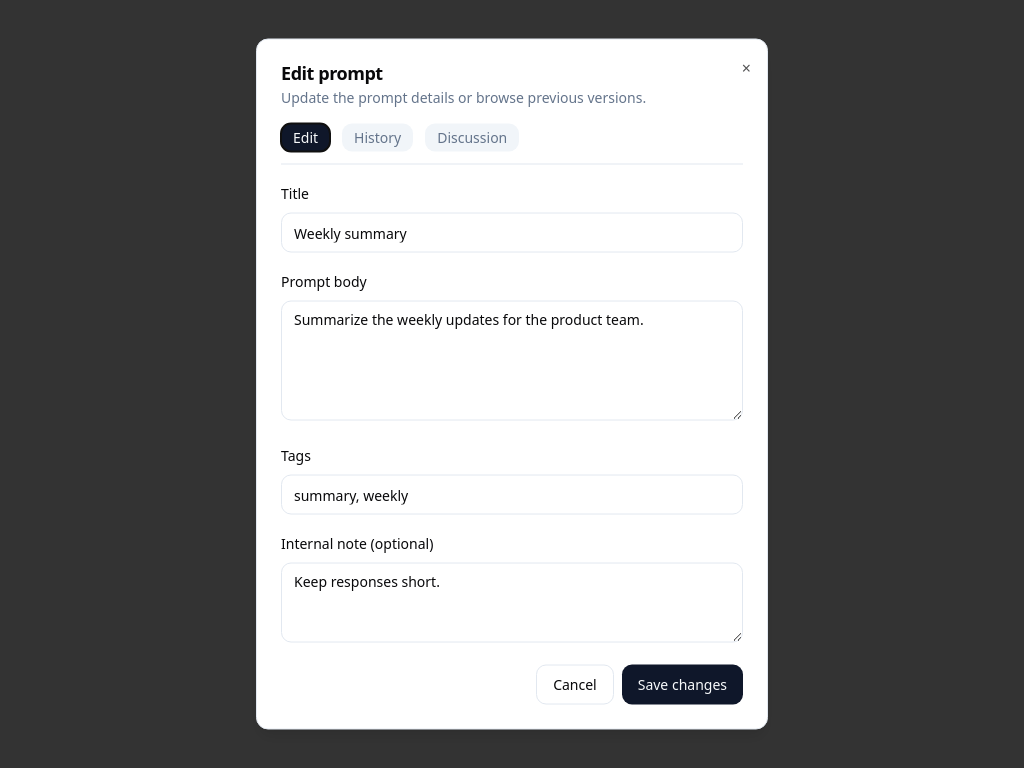
PromptEditorDialog › shows a loading state while versions are fetching
Click the tab "History".
click(378, 138)  # box [342, 124, 413, 152]
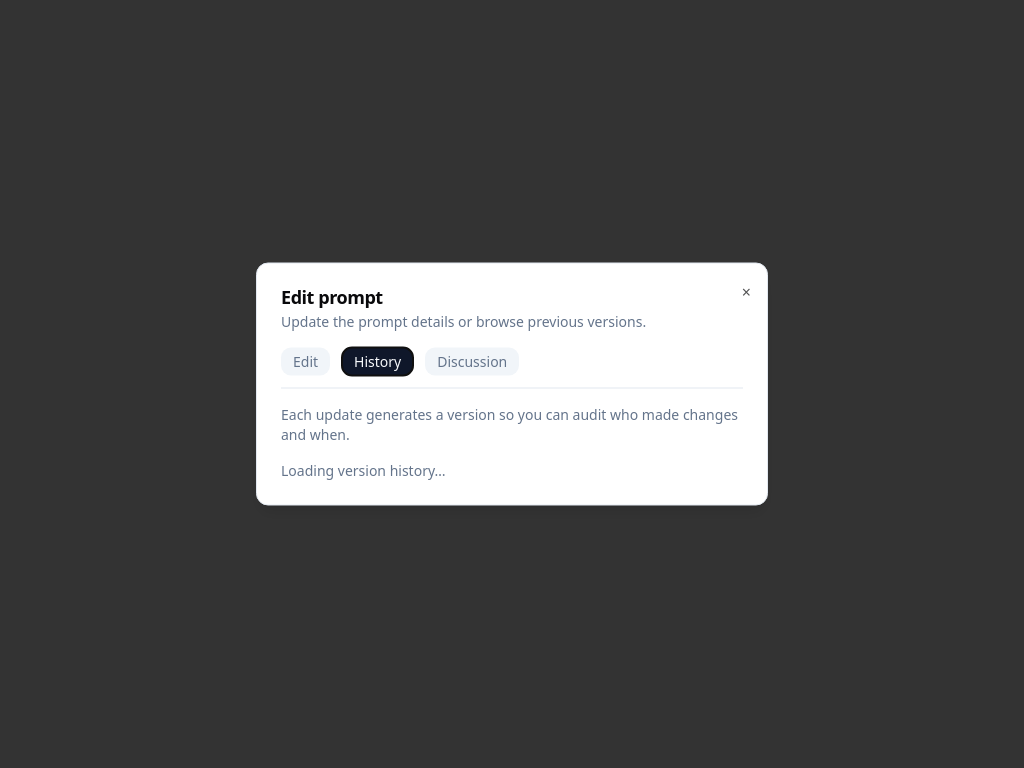
Result: the text "Loading version history…" is shown at [281, 460, 446, 480]
